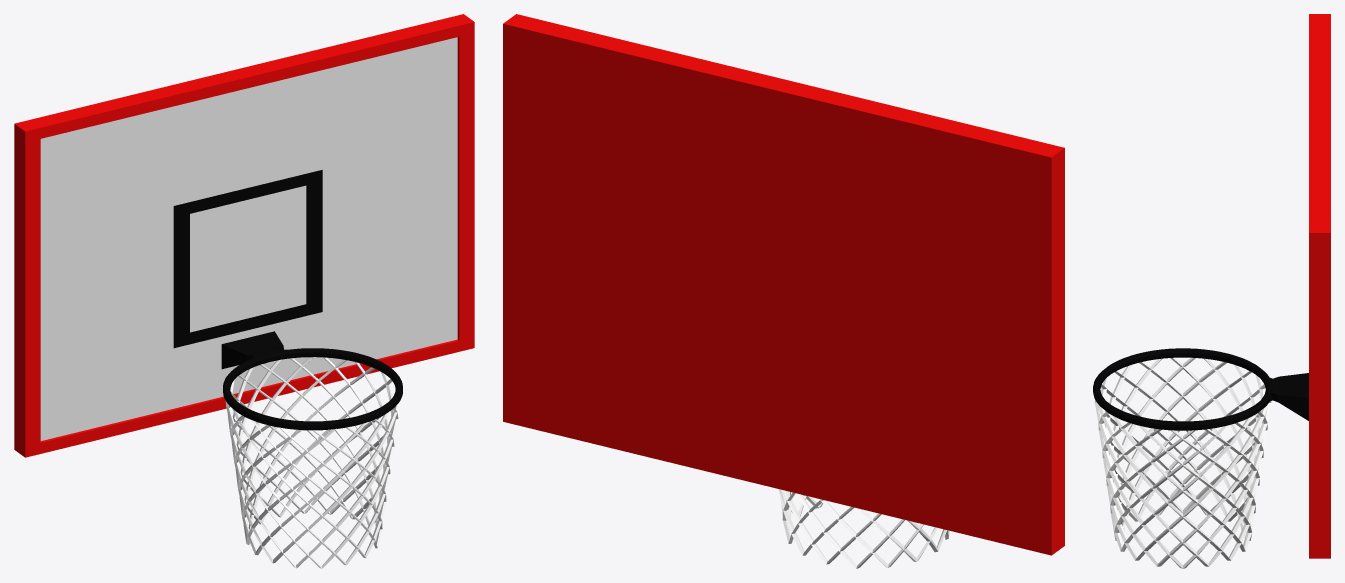
File: rim-and-board.fbx
The picture shows the model from 3 angles, left to right: view 1: azimuth 30°, elevation 25°; view 2: azimuth 150°, elevation 25°; view 3: azimuth 270°, elevation 25°; orthographic projection. The views are drawn at different scales.
Parts seen in each view (by area): view 1: board.001, ring.001; view 2: board.001, ring.001; view 3: ring.001, board.001.
Part boxes in pixels (bbox=[...]): board.001: bbox=[14, 14, 474, 457]; ring.001: bbox=[221, 331, 402, 568]; board.001: bbox=[503, 14, 1064, 555]; ring.001: bbox=[778, 489, 949, 568]; ring.001: bbox=[1093, 348, 1308, 568]; board.001: bbox=[1309, 14, 1330, 558].
Size of the model in its own units: 1712 by 1520 by 785.
